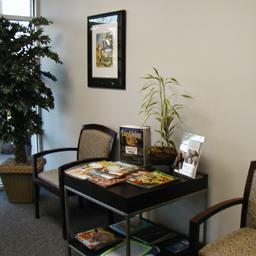Matera: (3, 21, 49, 207)
